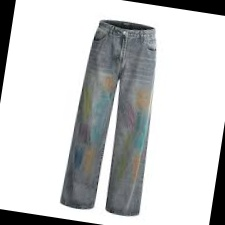earth: (135, 90, 152, 108), (130, 157, 142, 182), (83, 151, 95, 172), (103, 77, 115, 89)
